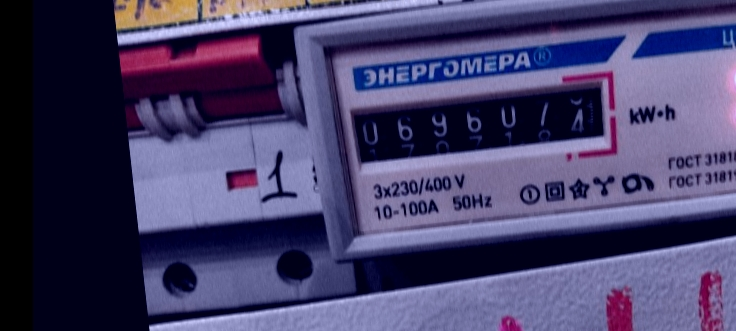0: (496, 99, 518, 131), (358, 117, 379, 147)
4: (566, 107, 585, 136)
6: (461, 105, 483, 136), (393, 112, 415, 142)
7: (532, 97, 552, 129)
9: (428, 110, 448, 139)
screen: (333, 64, 626, 183)
